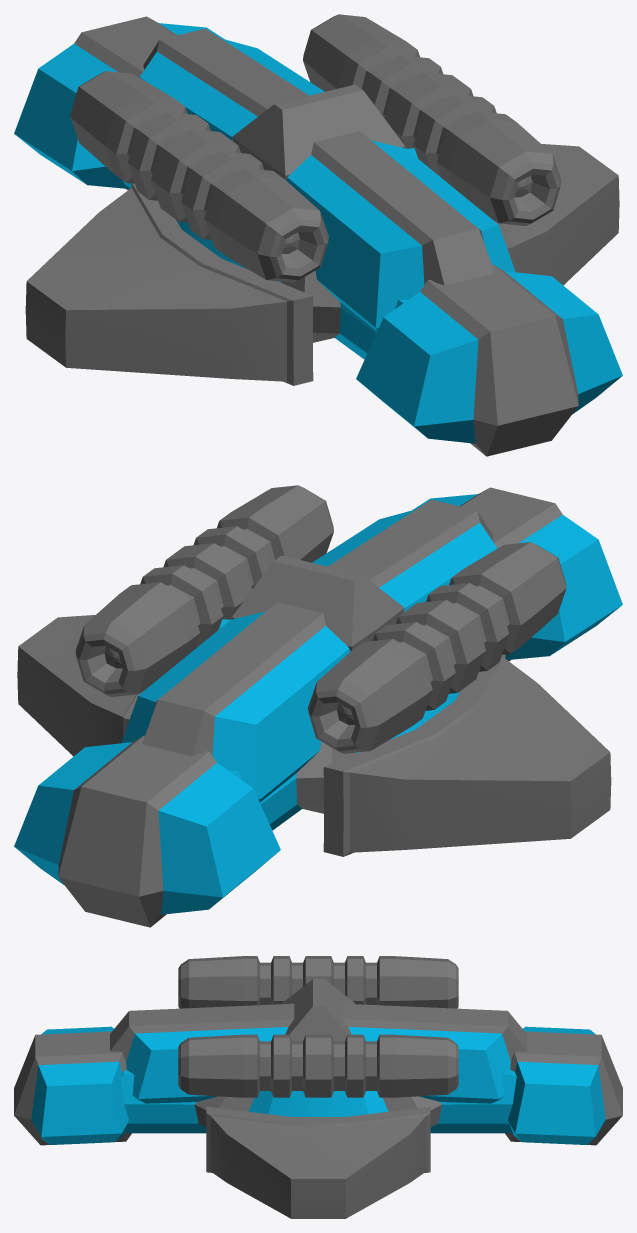
The model's file is _1Ship_PIece5.fbx.
The picture shows the model from 3 angles, top to bottom: view 1: azimuth 30°, elevation 25°; view 2: azimuth 150°, elevation 25°; view 3: azimuth 270°, elevation 25°; orthographic projection. The views are drawn at different scales.
Parts seen in each view (by area): view 1: Ship_PIece5; view 2: Ship_PIece5; view 3: Ship_PIece5.
Boxes of the visible parts, <box> form: Ship_PIece5: <box>14,14,622,456</box>; Ship_PIece5: <box>14,485,622,927</box>; Ship_PIece5: <box>14,956,622,1218</box>.
Size of the model in its own units: 361 by 129 by 495.
